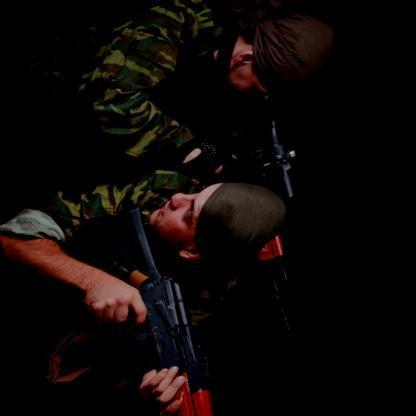rifle: (146, 27, 349, 354), (5, 186, 246, 416)
